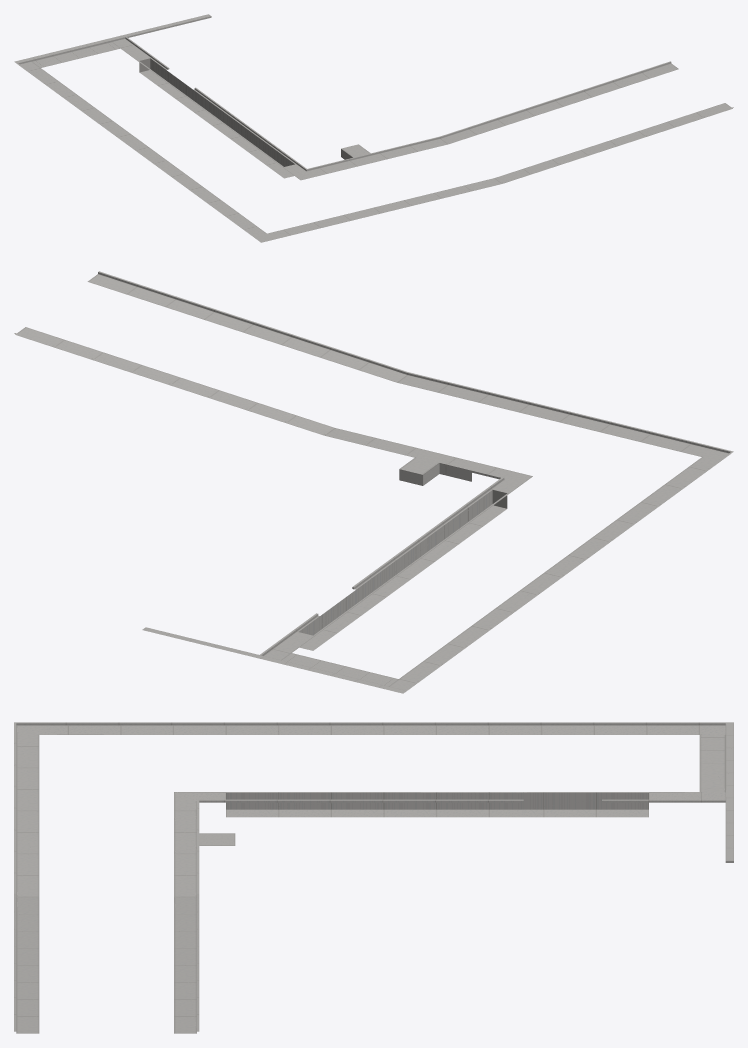
File: kd_stage_135b75_2_7.glb
3 renders of one model, top to bottom at view 1: azimuth 30°, elevation 25°; view 2: azimuth 150°, elevation 25°; view 3: azimuth 270°, elevation 25°, orthographic. The views are drawn at different scales.
Parts seen in each view (by area): view 1: kd_stage_135b75_2_7; view 2: kd_stage_135b75_2_7; view 3: kd_stage_135b75_2_7.
Part boxes in pixels (x1=…): kd_stage_135b75_2_7: x1=14, y1=14, x2=733, y2=242; kd_stage_135b75_2_7: x1=14, y1=271, x2=733, y2=693; kd_stage_135b75_2_7: x1=14, y1=722, x2=733, y2=1033.
Bounding box in the file's own units: 17.22 × 1.11 × 15.54.
1 material, 1 textured.
